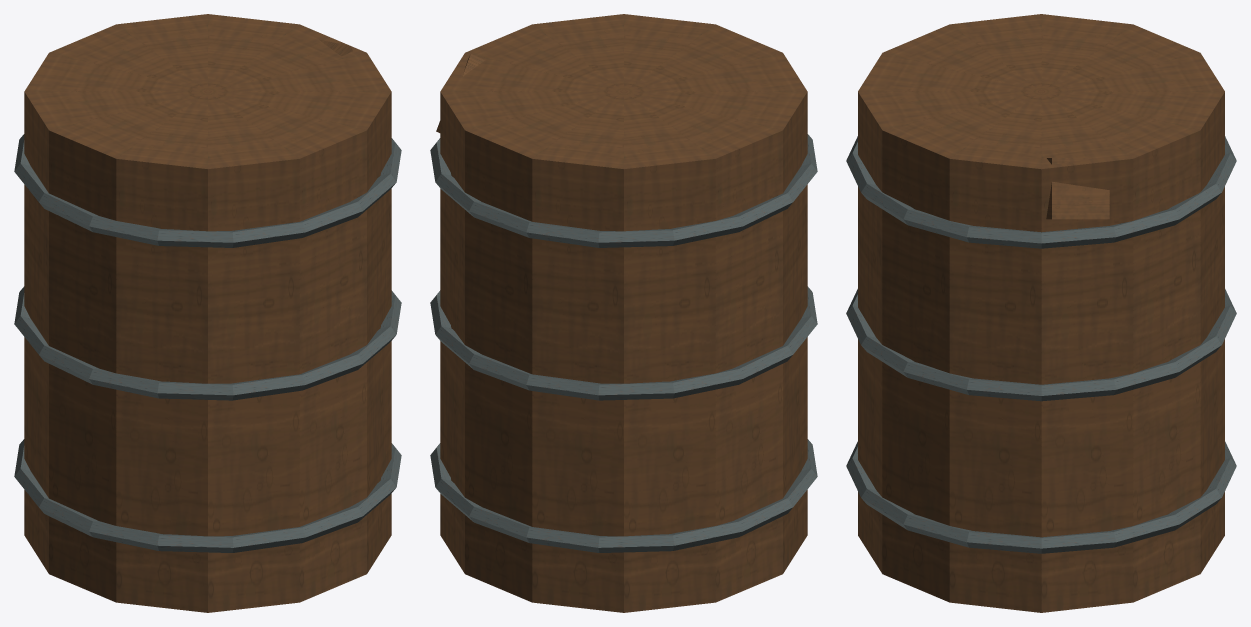
Rendered from en-003_barrel_container_wreckage__broken.obj.
3 renders of one model, left to right at view 1: azimuth 30°, elevation 25°; view 2: azimuth 150°, elevation 25°; view 3: azimuth 270°, elevation 25°, orthographic.
Parts seen in each view (by area): view 1: en-003_barrel_container_wreckage__broken; view 2: en-003_barrel_container_wreckage__broken; view 3: en-003_barrel_container_wreckage__broken.
Part boxes in pixels (x1=…): en-003_barrel_container_wreckage__broken: x1=14, y1=14, x2=401, y2=612; en-003_barrel_container_wreckage__broken: x1=430, y1=14, x2=817, y2=612; en-003_barrel_container_wreckage__broken: x1=846, y1=14, x2=1236, y2=612.
Size of the model in its own units: 0.7686 by 0.9724 by 0.766.
Materials: 2 (2 with a texture image).
